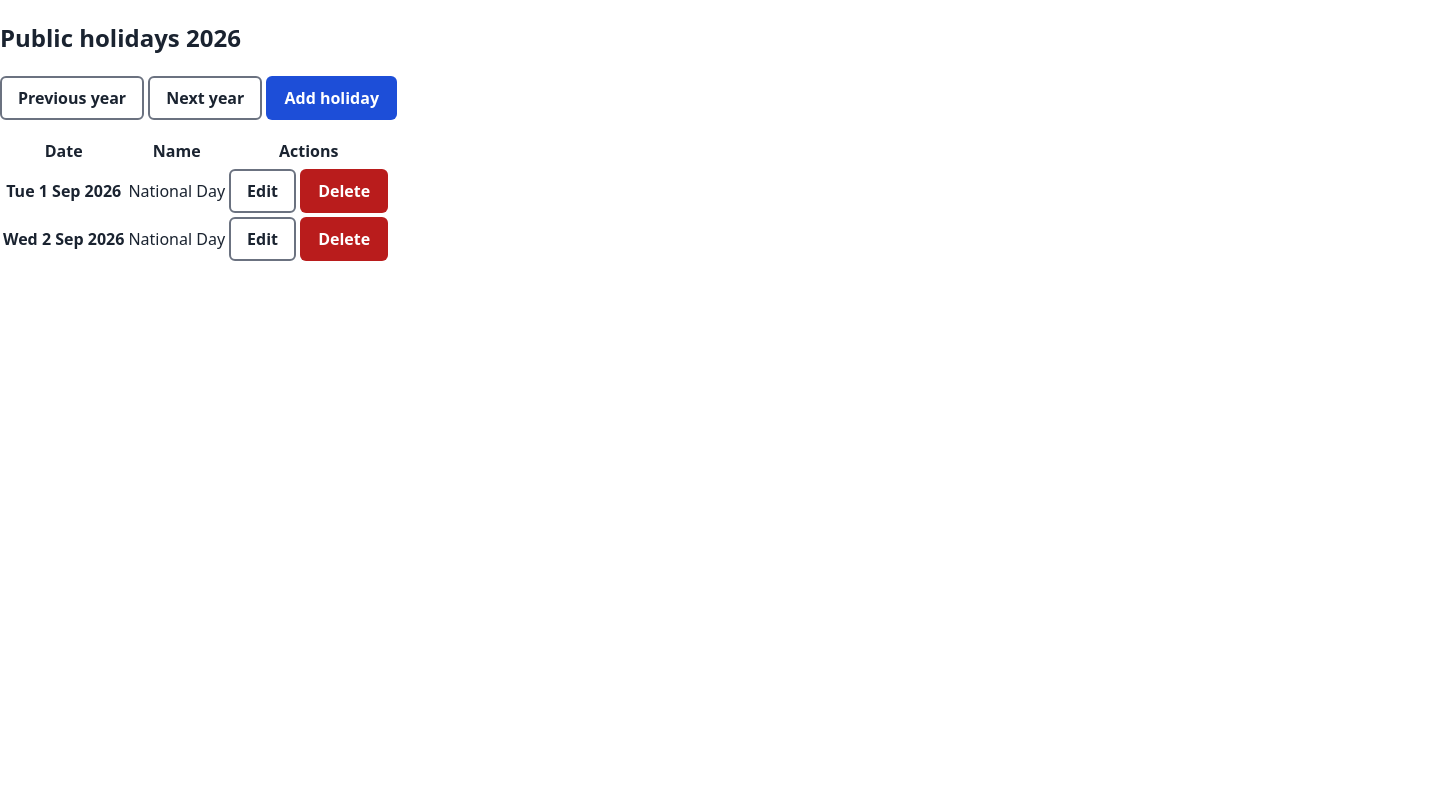
Test: HolidaysPage (R11) › deletes only after confirming
Click the button with aria-label "Delete National Day on Tue 1 Sep 2026". click: (344, 191)
box: [300,169,388,213]
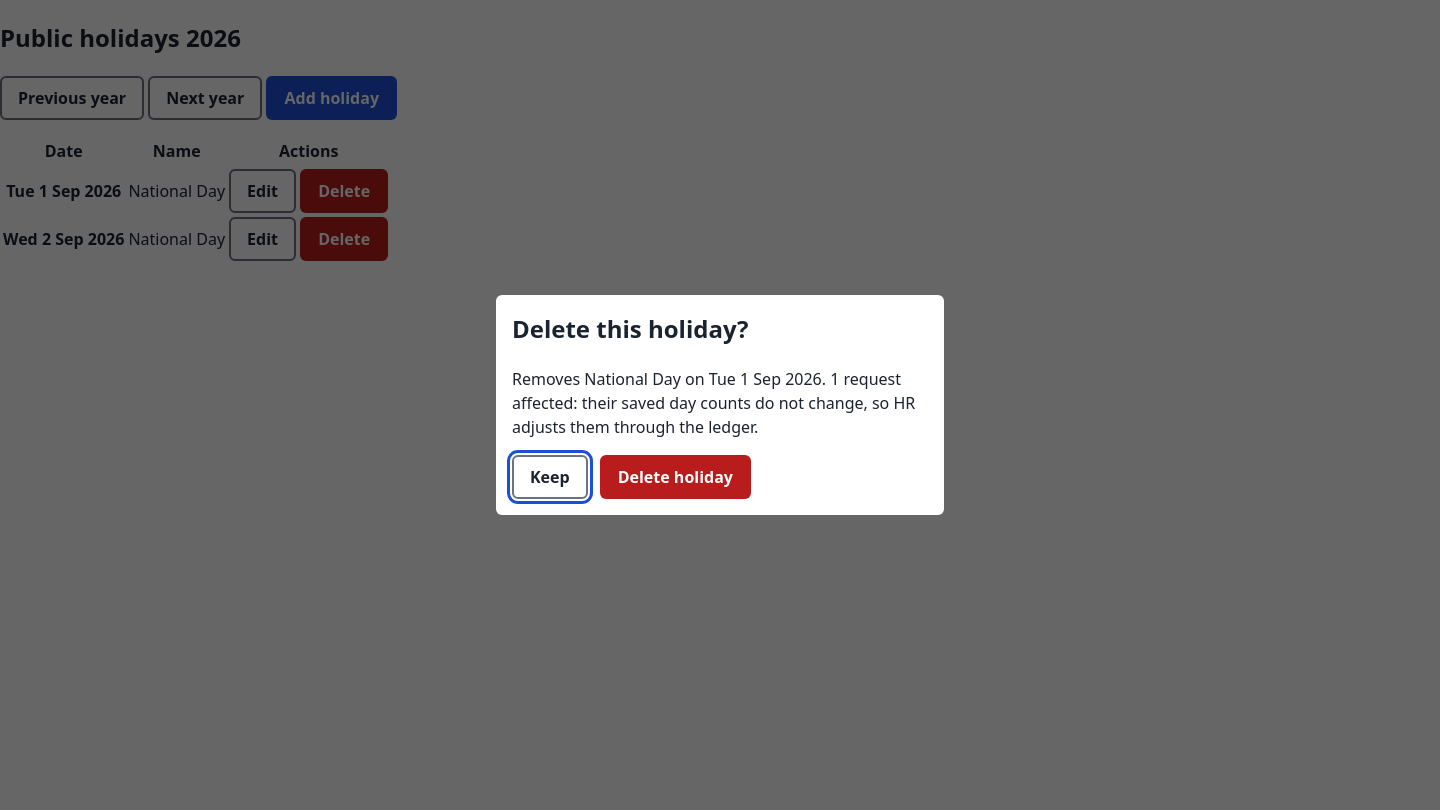
Now the text "1 request affected" is shown, box [512,368,915,438]
Click the button "Delete holiday". click: (675, 477)
box: [600,455,751,499]
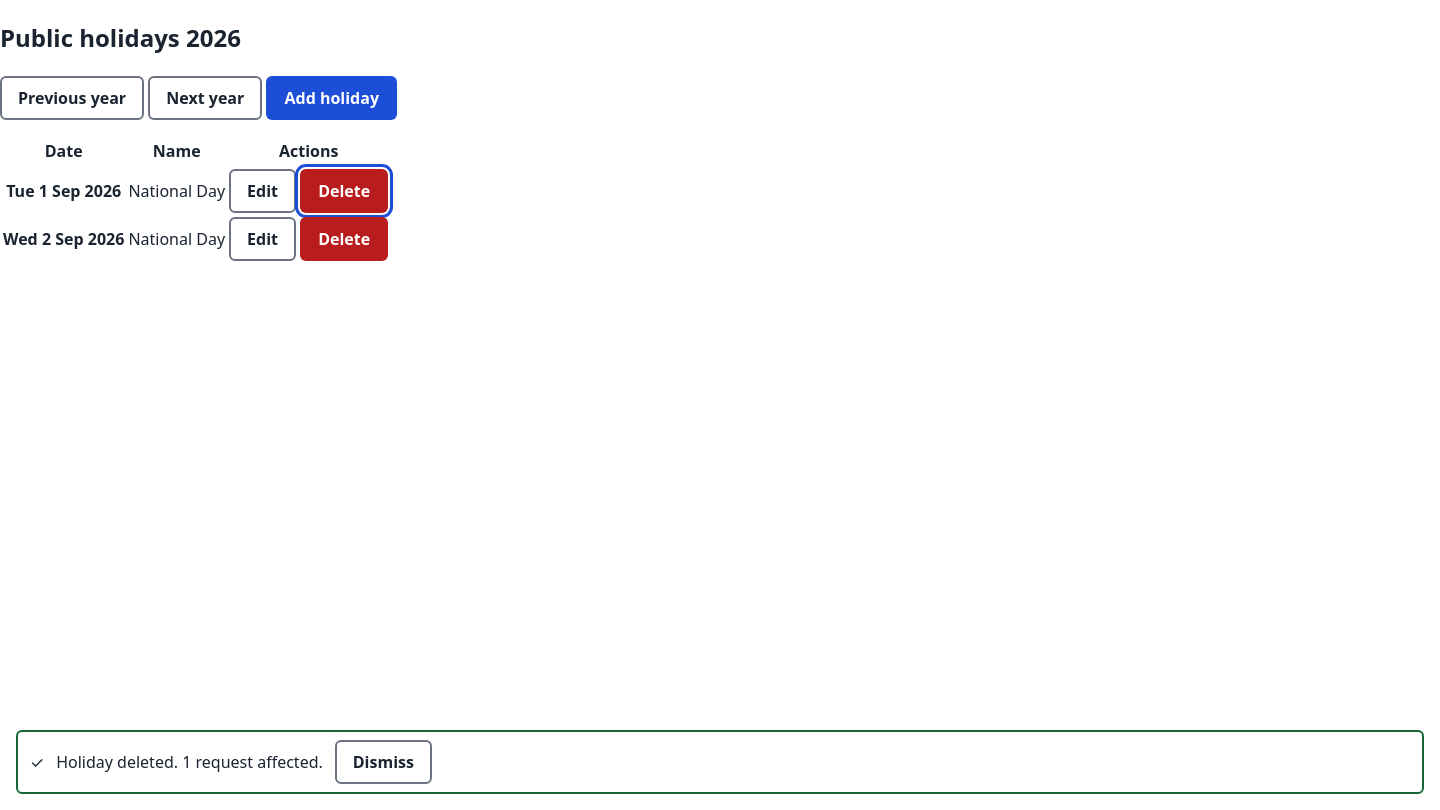
Now the text "Holiday deleted. 1 request affected." is shown, box [56,750,323,774]
